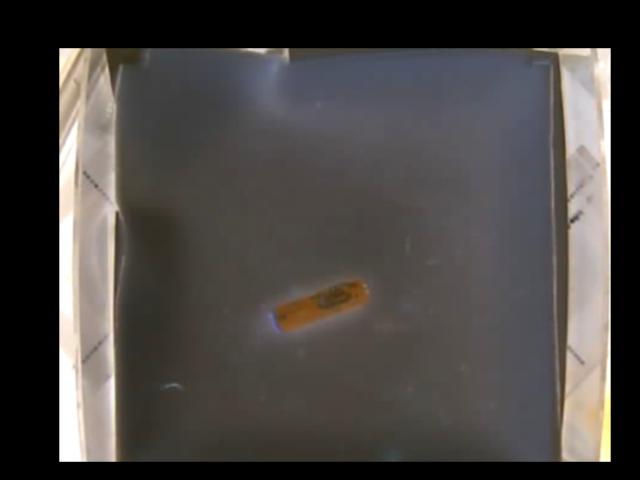Battery: (268, 278, 370, 330)
